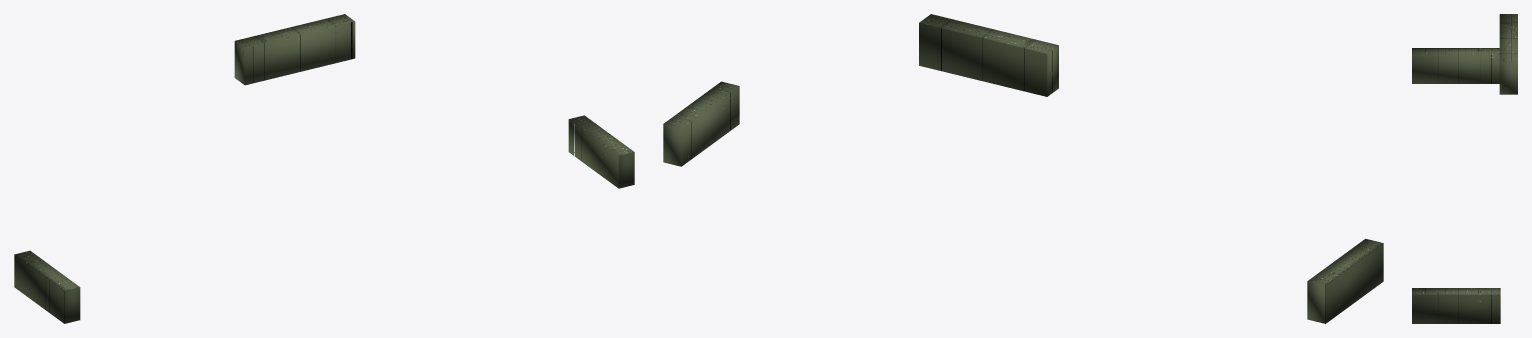
The model's file is medium_tank_emissive_turret.obj.
The picture shows the model from 3 angles, left to right: view 1: azimuth 30°, elevation 25°; view 2: azimuth 150°, elevation 25°; view 3: azimuth 270°, elevation 25°; orthographic projection. The views are drawn at different scales.
Parts seen in each view (by area): view 1: Emissive_Turret; view 2: Emissive_Turret; view 3: Emissive_Turret.
Part boxes in pixels (box(x1,y1,x2,y2)): Emissive_Turret: box(14, 14, 634, 323); Emissive_Turret: box(663, 14, 1383, 323); Emissive_Turret: box(1412, 14, 1517, 323).
Size of the model in its own units: 1.45 by 0.445 by 0.2625.
